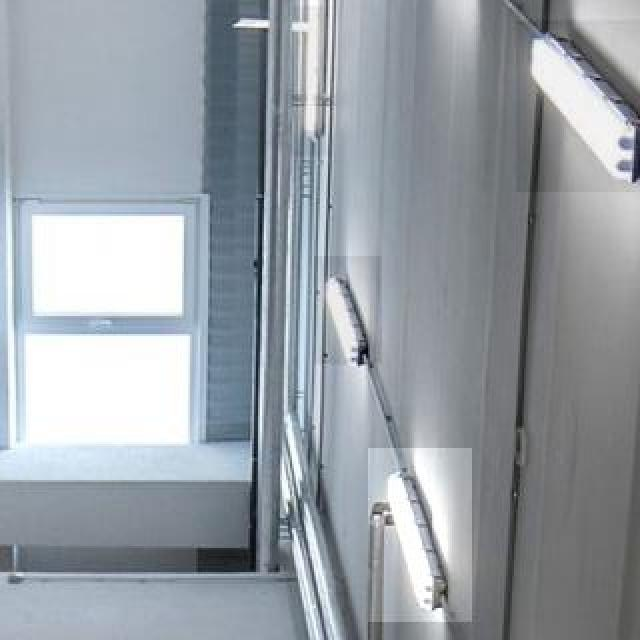fluorescent tube: (500, 18, 640, 214), (370, 440, 460, 640), (307, 256, 400, 400)
